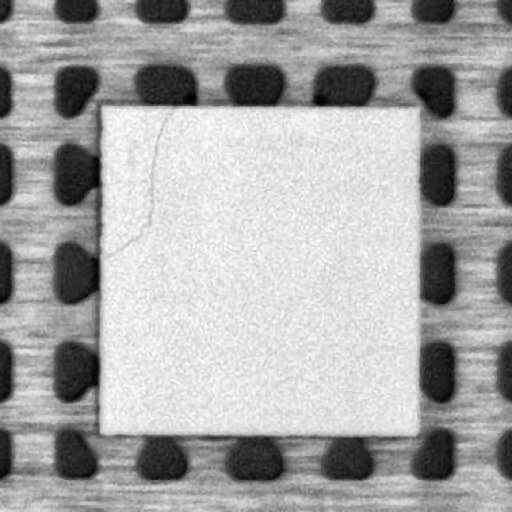DIE_CRACK: (103, 106, 175, 260)
